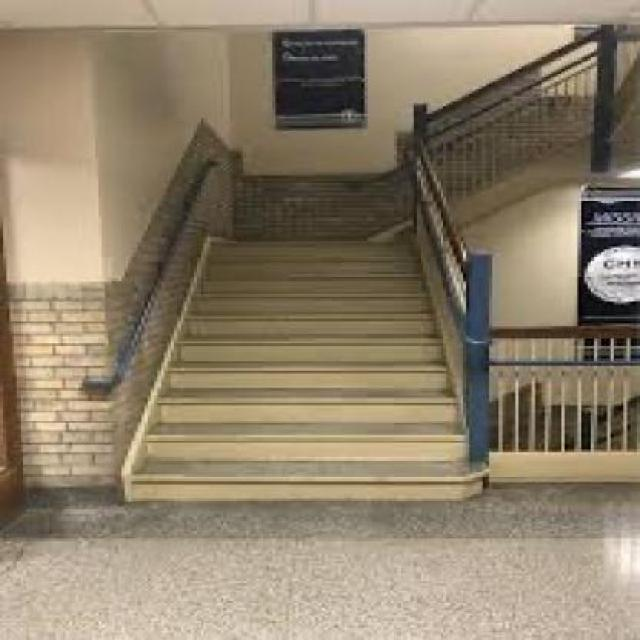stair: (119, 255, 432, 496)
